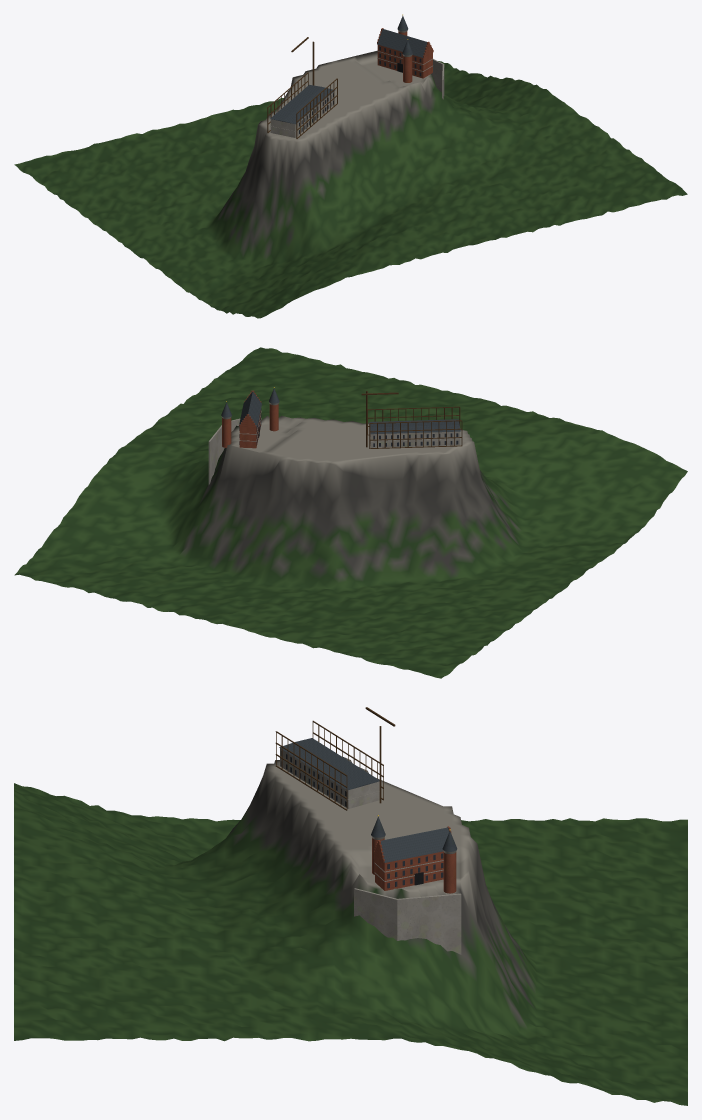
File: neuschwanstein-b50.glb
3 renders of one model, top to bottom at view 1: azimuth 30°, elevation 25°; view 2: azimuth 150°, elevation 25°; view 3: azimuth 270°, elevation 25°, orthographic. The views are drawn at different scales.
Bounding box in the file's own units: 32 × 11.58 × 32.
Materials: 8 (5 with a texture image).
